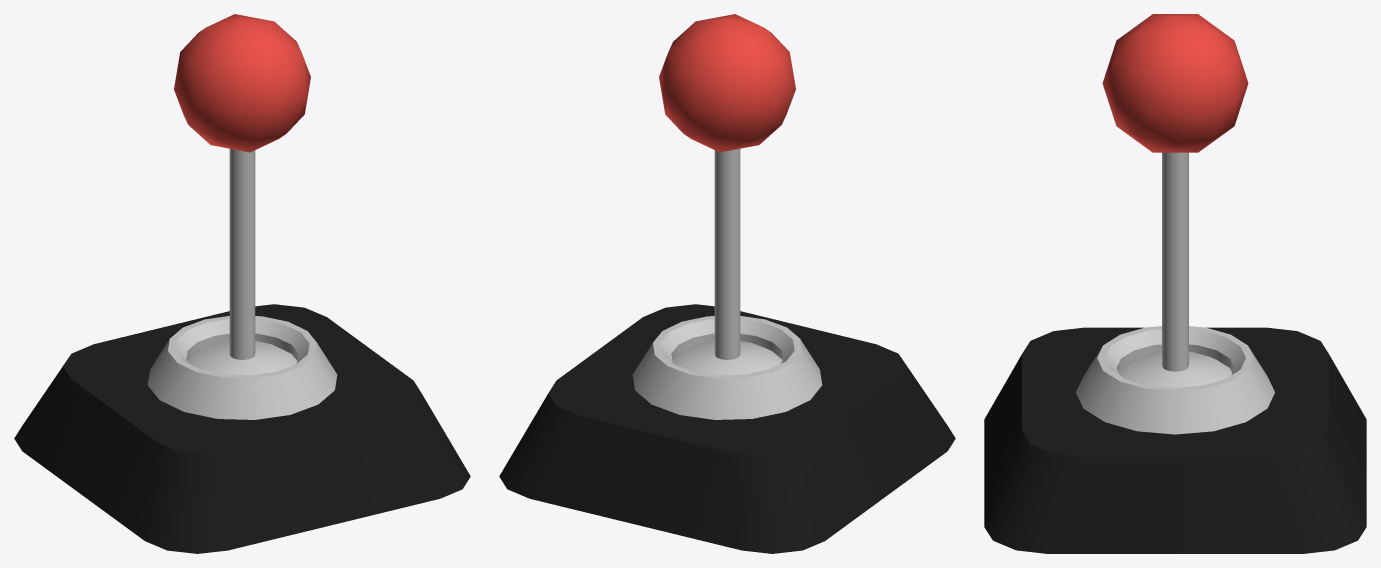
File: ControlTable_Joystick.fbx
3 views of the same model, side by side, from view 1: azimuth 30°, elevation 25°; view 2: azimuth 150°, elevation 25°; view 3: azimuth 270°, elevation 25° (orthographic). The views are drawn at different scales.
Parts seen in each view (by area): view 1: JoystickBase, JoystickTop, JoystickStick; view 2: JoystickBase, JoystickTop, JoystickStick; view 3: JoystickBase, JoystickTop, JoystickStick.
Part boxes in pixels (left/top/right/bottom): JoystickBase: left=14, top=304, right=470, bottom=553; JoystickTop: left=174, top=14, right=310, bottom=152; JoystickStick: left=187, top=148, right=297, bottom=375; JoystickBase: left=499, top=304, right=955, bottom=553; JoystickTop: left=659, top=14, right=795, bottom=152; JoystickStick: left=672, top=148, right=782, bottom=375; JoystickBase: left=984, top=326, right=1366, bottom=553; JoystickTop: left=1102, top=14, right=1248, bottom=152; JoystickStick: left=1119, top=152, right=1231, bottom=387.
Bounding box in the file's own units: 0.0875 × 0.1152 × 0.0875.
